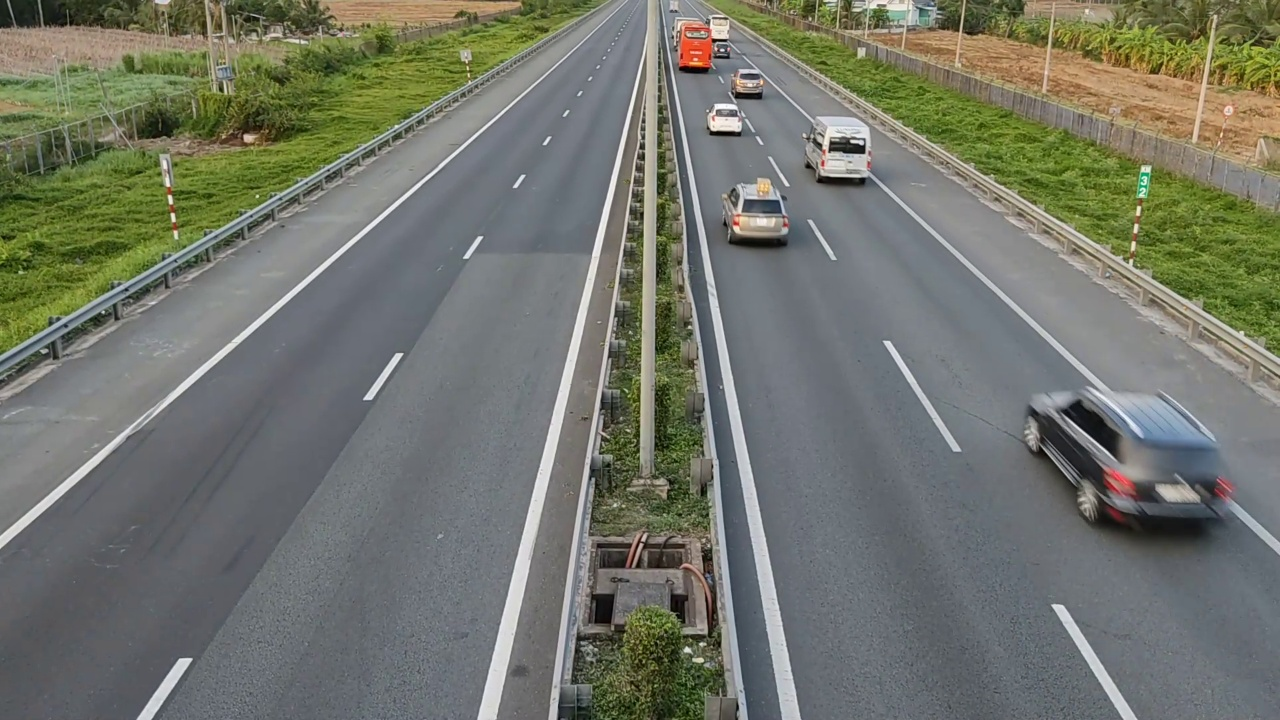car: (1021, 385, 1237, 533), (801, 114, 871, 183), (719, 179, 791, 245), (705, 102, 743, 135), (729, 69, 765, 99)
